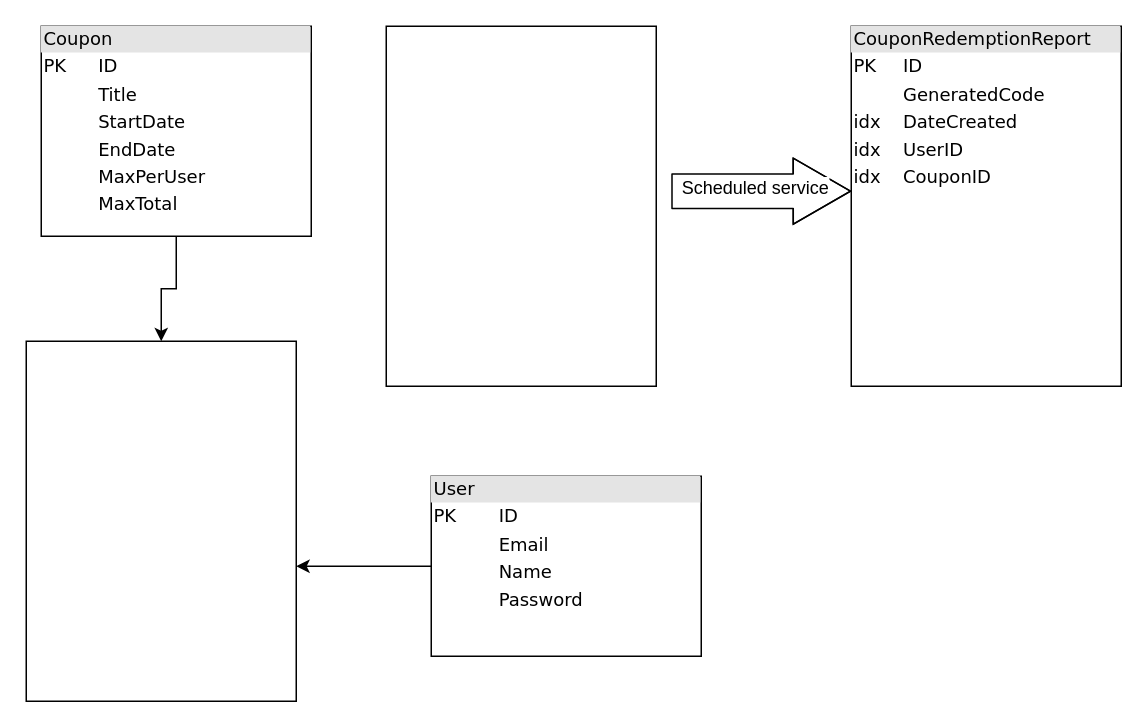
This 1148x728 diagram has some shape labels left out. The shapes that lost their labels are listed below. From the top down, each one's box as (x1, y1, x2, y2) in pixels, then its label:
(385, 25, 656, 386): CouponRedemption PK ID GeneratedCode DateCreated UserID CouponID
(25, 340, 296, 701): RedemptionCounter PK ID RedeemedNum FK1 UserID FK1 CouponID
